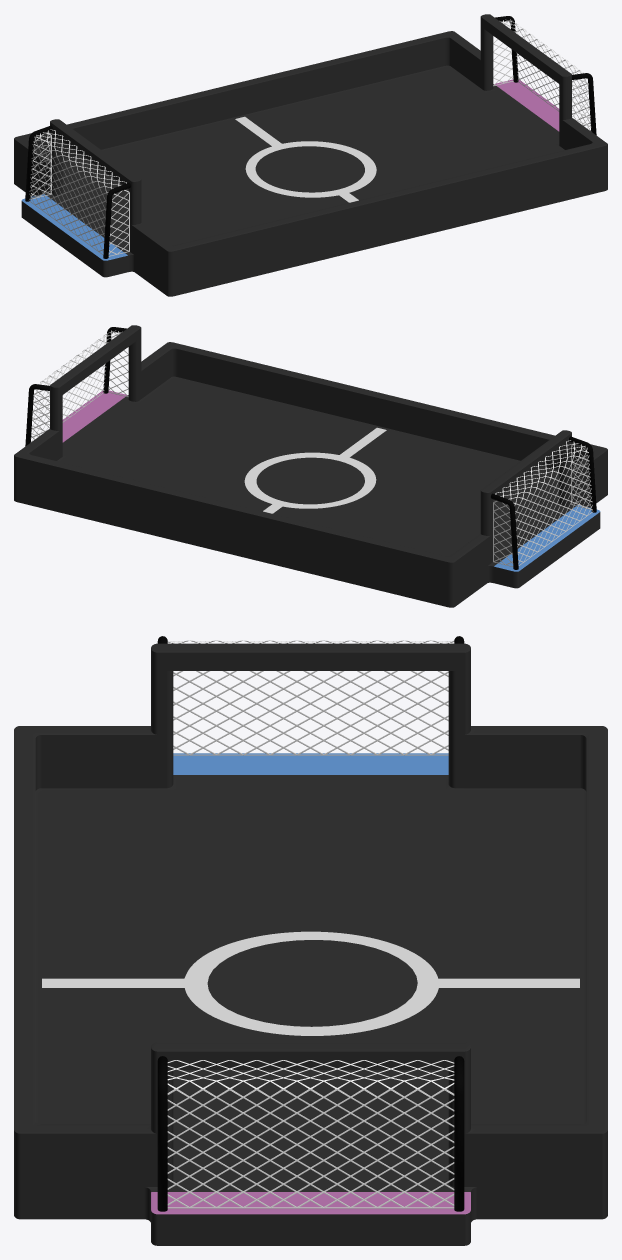
The model's file is arena.fbx.
The picture shows the model from 3 angles, top to bottom: view 1: azimuth 30°, elevation 25°; view 2: azimuth 150°, elevation 25°; view 3: azimuth 270°, elevation 25°; orthographic projection. The views are drawn at different scales.
Parts seen in each view (by area): view 1: Arena, NetMain.001, NetMain, Bar.002, LateralNet.003, Bar.003, LateralNet.002, Bar.001; view 2: Arena, NetMain.001, NetMain, Bar.003, Bar.002, LateralNet.002, Bar, LateralNet.003; view 3: Arena, NetMain, NetMain.001, Bar, Bar.001.
Part boxes in pixels (x1,y1,x2,y2): Arena: (14, 14, 607, 296); NetMain.001: (28, 129, 126, 254); NetMain: (500, 19, 590, 130); Bar.002: (103, 182, 130, 258); LateralNet.003: (108, 190, 129, 256); Bar.003: (25, 125, 52, 201); LateralNet.002: (30, 132, 51, 199); Bar.001: (572, 73, 596, 135); Arena: (14, 325, 607, 607); NetMain.001: (495, 440, 593, 565); NetMain: (31, 330, 122, 441); Bar.003: (491, 493, 518, 569); Bar.002: (569, 436, 596, 512); LateralNet.002: (493, 500, 513, 566); Bar: (25, 384, 49, 446); LateralNet.003: (571, 444, 591, 509); Arena: (14, 643, 607, 1245); NetMain: (167, 1060, 454, 1208); NetMain.001: (167, 640, 454, 755); Bar: (454, 1056, 464, 1211); Bar.001: (157, 1056, 167, 1211).
Bounding box in the file's own units: 69.24 × 11.81 × 37.72.
